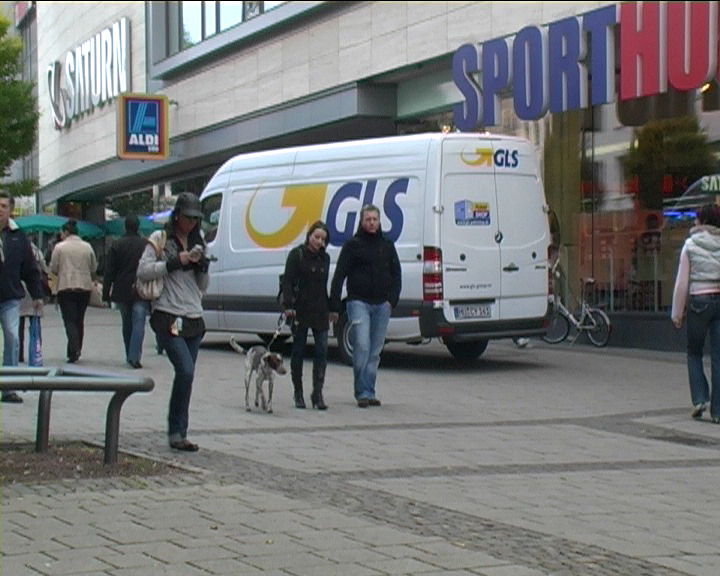undeflect: (155, 196, 212, 268), (345, 206, 394, 259)
